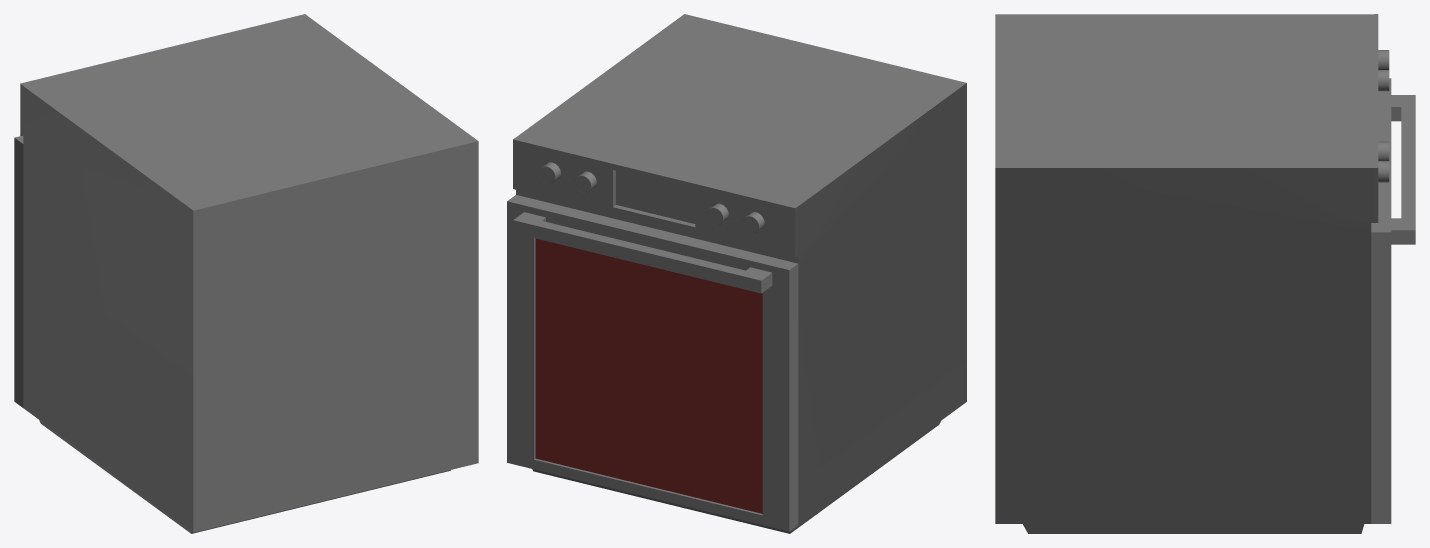
Rendered from Horno.fbx.
The picture shows the model from 3 angles, left to right: view 1: azimuth 30°, elevation 25°; view 2: azimuth 150°, elevation 25°; view 3: azimuth 270°, elevation 25°; orthographic projection. The views are drawn at different scales.
Visible parts, largest first — view 1: Oven, OvenDoor; view 2: Oven, OvenDoor; view 3: Oven, OvenDoor.
Part boxes in pixels (x1,y1,x2,y2): Oven: (20,14,478,533); OvenDoor: (14,134,23,407); Oven: (513,14,966,533); OvenDoor: (507,195,798,531); Oven: (995,14,1389,533); OvenDoor: (1371,78,1415,523).
Size of the model in its own units: 30.36 by 34.36 by 35.08.
